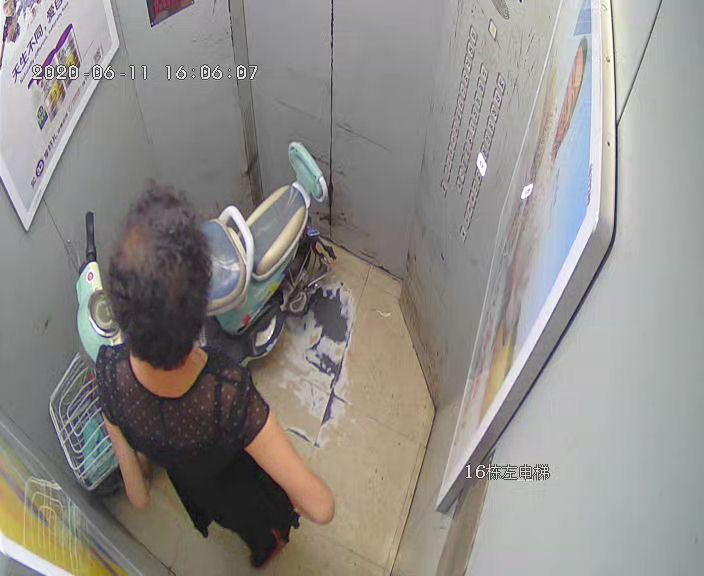Electric-bicycle: (51, 142, 329, 487)
